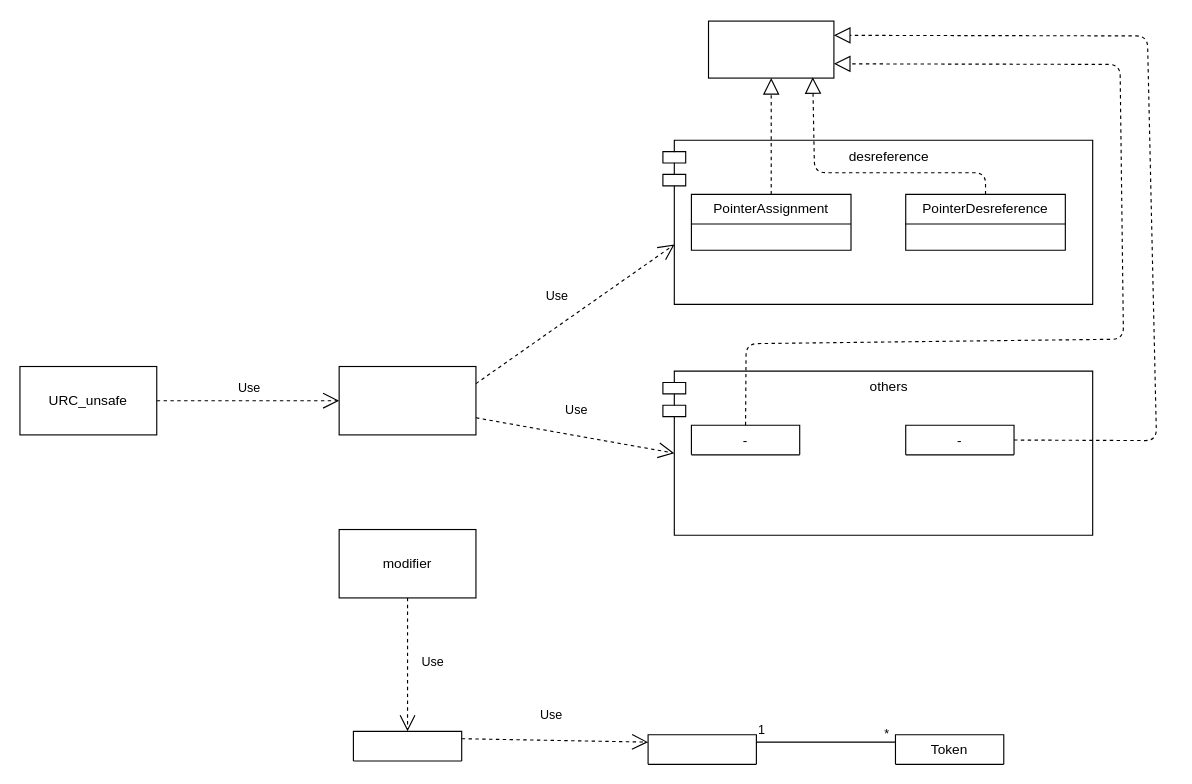
Image size: 1192x784. Some labels were removed from this diagram. The centre of each missing label's shape, as x and y in pixels:
Lexer: pixel 701 749
Parser: pixel 407 745
u_ana lizaer: pixel 407 400
«interface» IPattern: pixel 770 49
